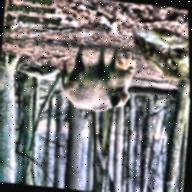boar: (53, 62, 151, 131)
